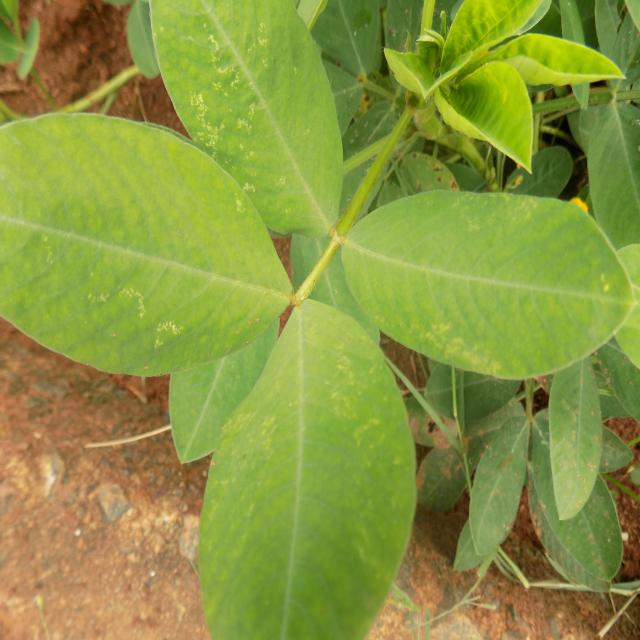Ground nut_healthy: (200, 296, 417, 640), (1, 114, 288, 374), (351, 190, 634, 381), (149, 2, 343, 232)
